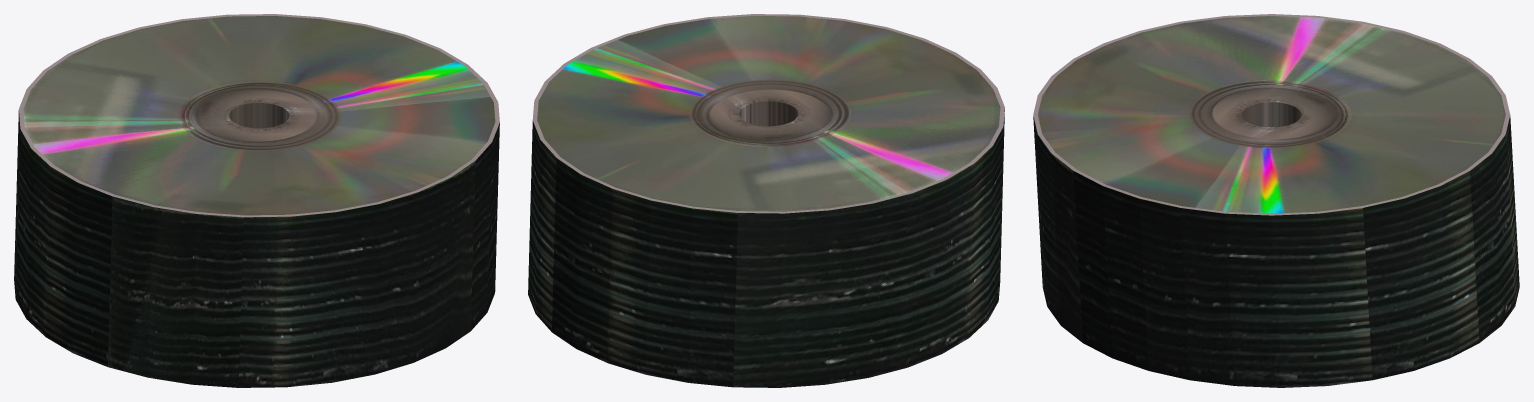
Rendered from cd stack.fbx.
3 renders of one model, left to right at view 1: azimuth 30°, elevation 25°; view 2: azimuth 150°, elevation 25°; view 3: azimuth 270°, elevation 25°, orthographic.
Parts seen in each view (by area): view 1: Circle; view 2: Circle; view 3: Circle.
Part boxes in pixels (left/top/right/bottom): Circle: left=14, top=14, right=499, bottom=387; Circle: left=528, top=14, right=1004, bottom=387; Circle: left=1033, top=14, right=1519, bottom=387.
Bounding box in the file's own units: 200 × 79.74 × 204.
Materials: 4 (4 with a texture image).
